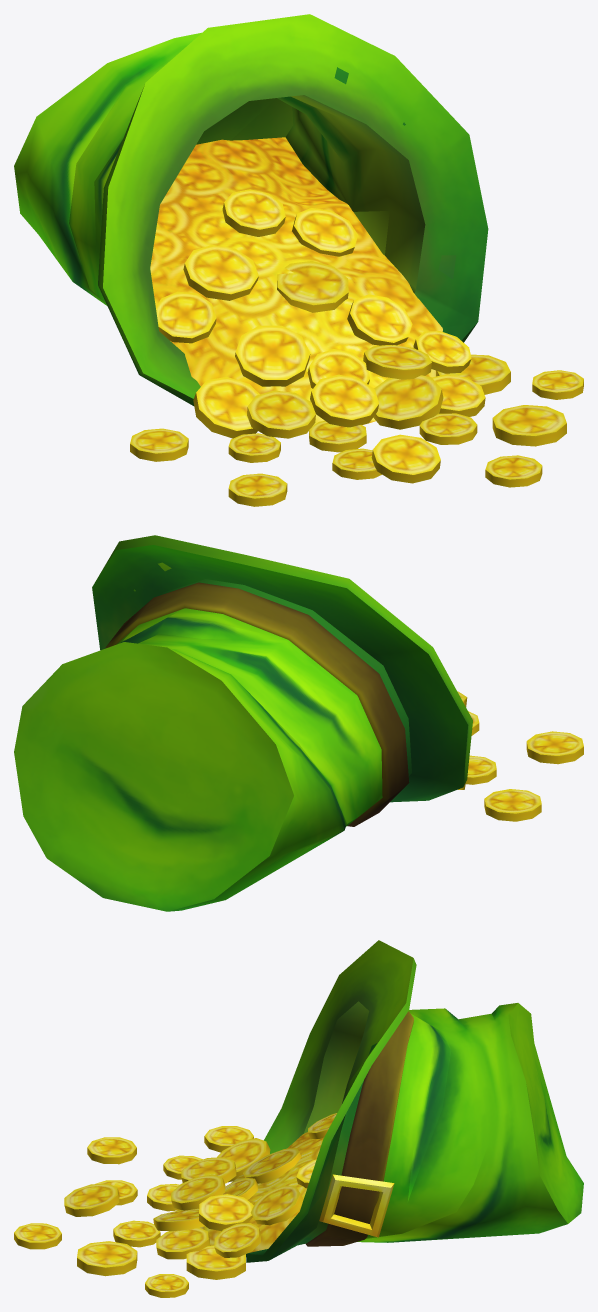
The model's file is LeprechaunHat_Optimize.fbx.
The picture shows the model from 3 angles, top to bottom: view 1: azimuth 30°, elevation 25°; view 2: azimuth 150°, elevation 25°; view 3: azimuth 270°, elevation 25°; orthographic projection. The views are drawn at different scales.
Visible parts, largest first — view 1: Leprechaun_Hat_Optimize; view 2: Leprechaun_Hat_Optimize; view 3: Leprechaun_Hat_Optimize.
Part boxes in pixels (x1=…): Leprechaun_Hat_Optimize: x1=14, y1=14, x2=583, y2=506; Leprechaun_Hat_Optimize: x1=14, y1=535, x2=583, y2=911; Leprechaun_Hat_Optimize: x1=14, y1=940, x2=583, y2=1297.
Size of the model in its own units: 30.61 by 44.67 by 21.69.
